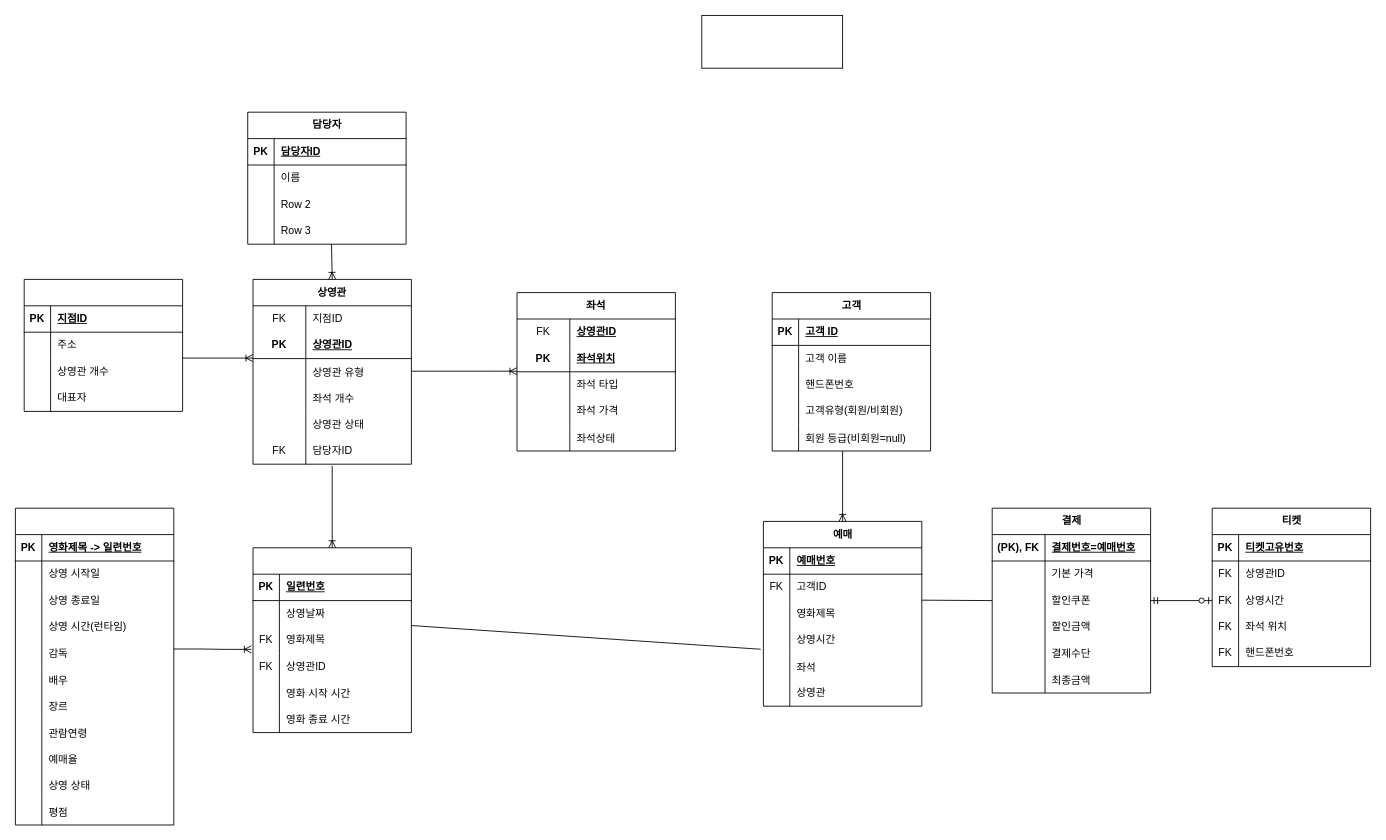
The diagram is 1386 pixels wide and 840 high, and some of its shapes have lost their labels. Each missing label, with the box of its shape:
비즈니스 룰 : 할인 정책 상영스케줄 - 예매 마감 시간: (701, 15, 843, 68)
상영 시간(스케쥴): (252, 547, 411, 733)
영화: (15, 507, 174, 825)
지점: (23, 279, 183, 411)
